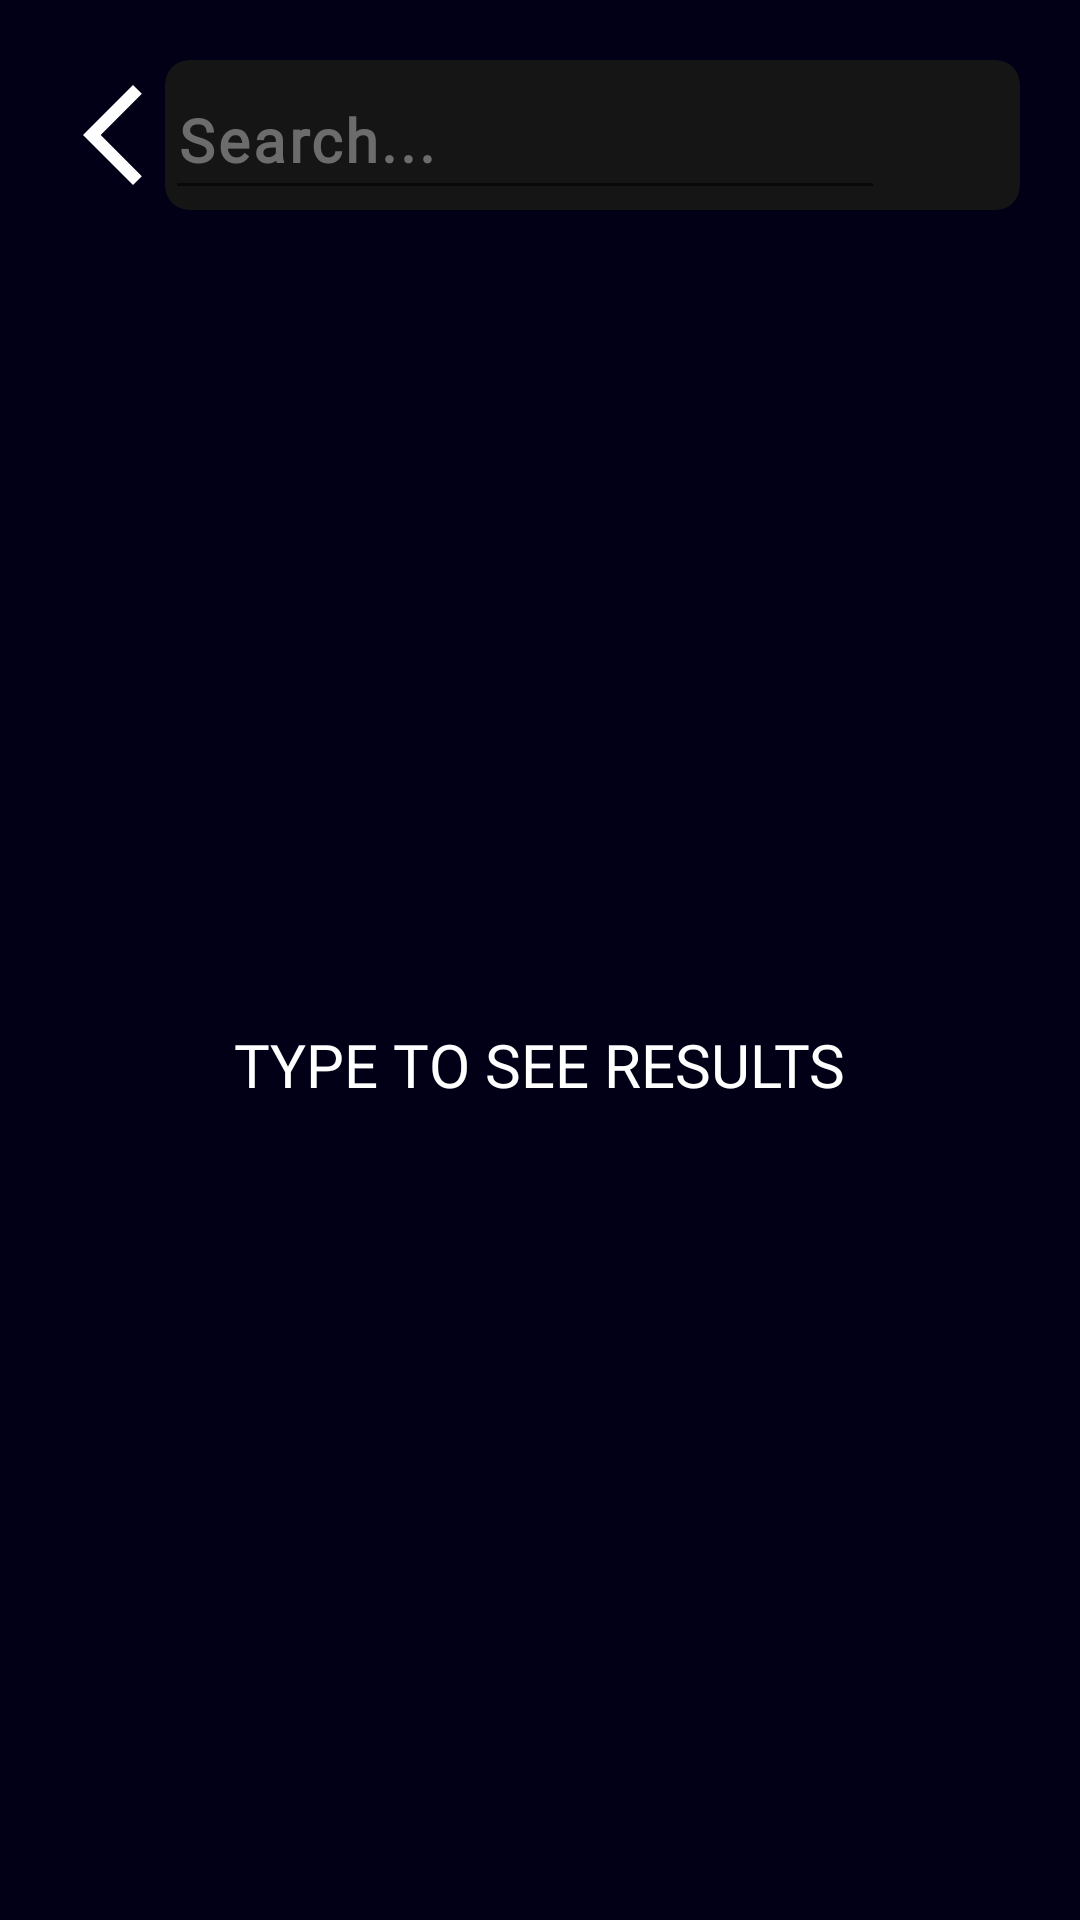

Locate icon controls on the screen. Image size 1080 x 1920, boxes as (x1,y1,x2,y2).
back: (83,85,142,185)
